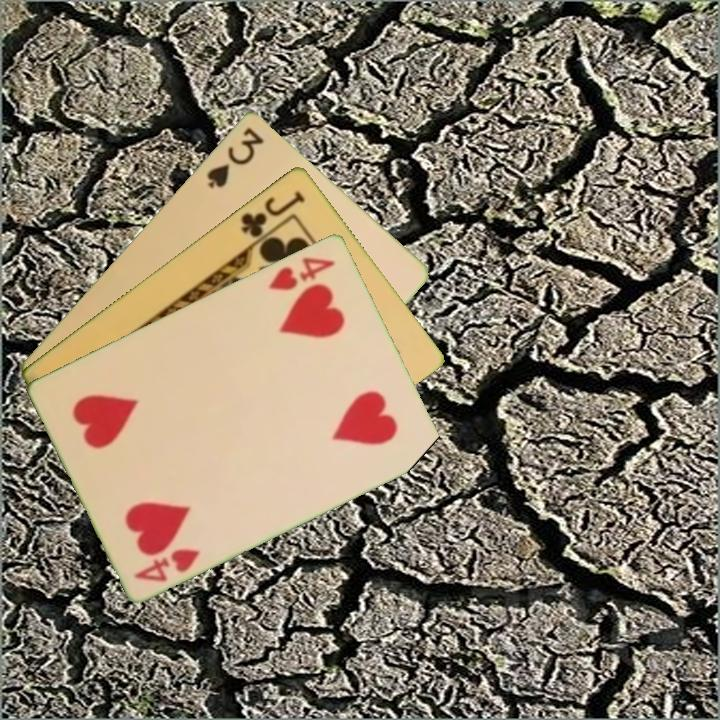3s: (203, 122, 267, 191)
4h: (131, 544, 204, 585), (265, 253, 339, 293)
Jc: (237, 187, 308, 241)
